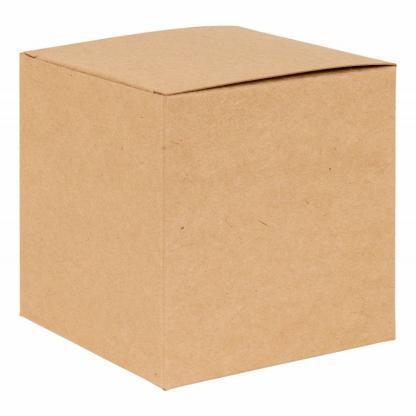box: (18, 23, 397, 391)
